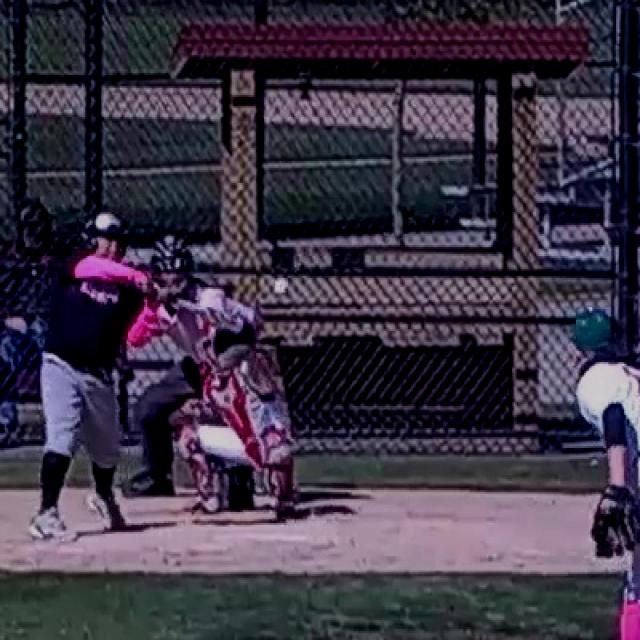baseball: (274, 278, 288, 294)
